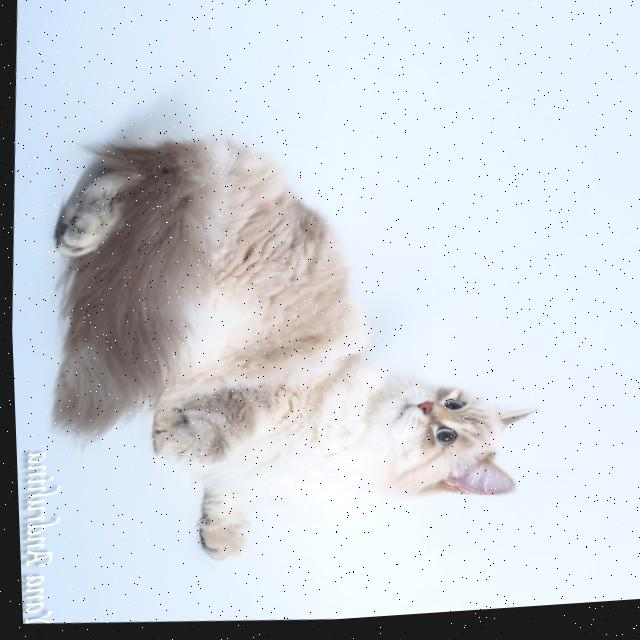Neva Masquerade: (26, 112, 559, 592)
